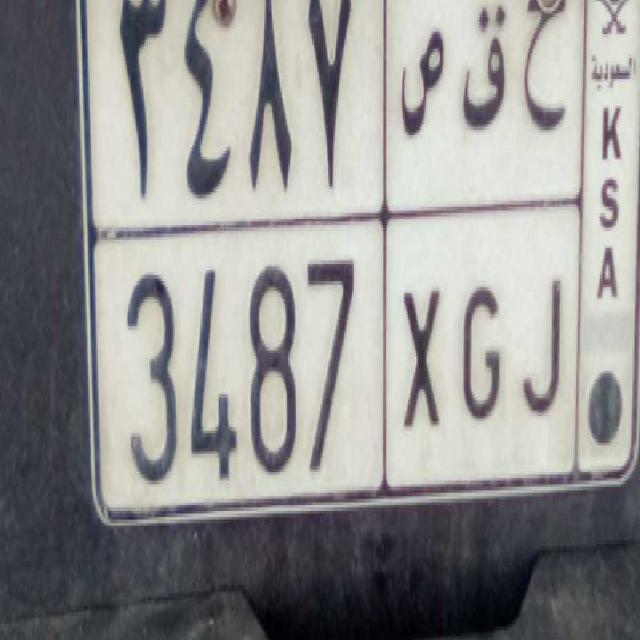license_plate: (86, 221, 583, 505)
